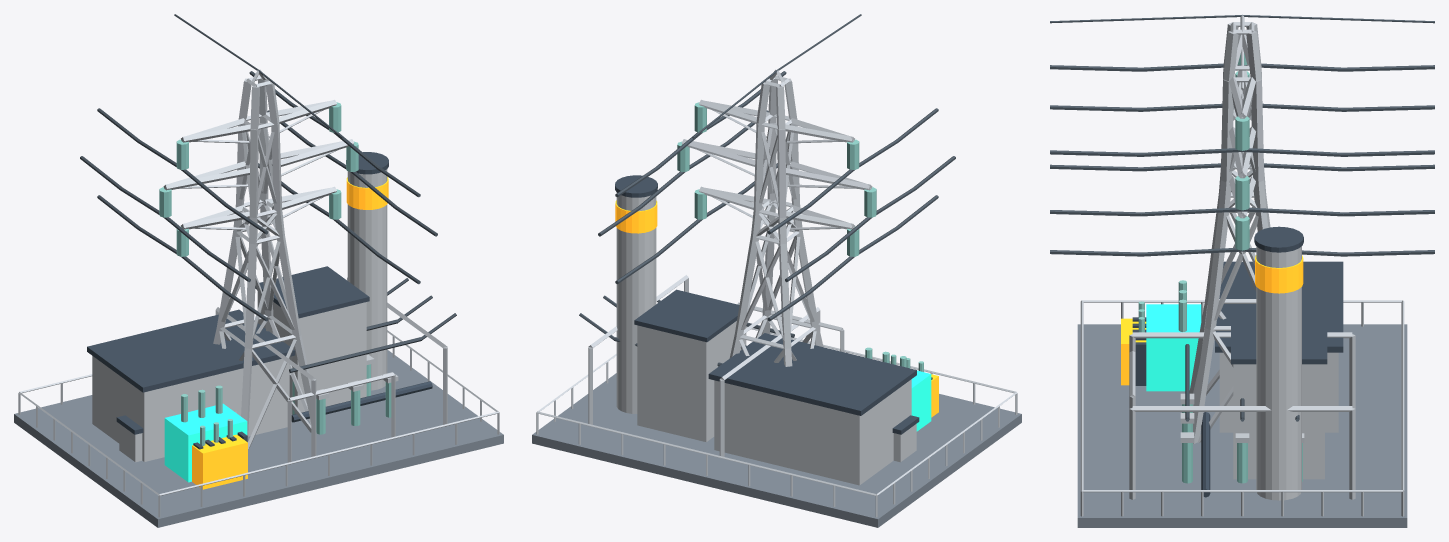
The model's file is eco-infrastructure.glb.
The picture shows the model from 3 angles, left to right: view 1: azimuth 30°, elevation 25°; view 2: azimuth 150°, elevation 25°; view 3: azimuth 270°, elevation 25°; orthographic projection. The views are drawn at different scales.
Parts seen in each view (by area): view 1: PowerStation_Concrete, PowerStation_Building, Tower_Steel, PowerStation_Roof, Tower_Conductor, Substation_Steel, PowerStation_AccentAmber, Substation_AccentTeal, Tower_Insulator, Substation_Insulator, Substation_Conductor, PowerStation_Steel (+1 smaller); view 2: PowerStation_Building, PowerStation_Concrete, Tower_Steel, PowerStation_Roof, Tower_Conductor, Substation_Steel, Tower_Insulator, PowerStation_AccentAmber, Substation_AccentTeal, Substation_Building; view 3: PowerStation_Concrete, PowerStation_Building, Tower_Steel, Tower_Conductor, PowerStation_Roof, Substation_Steel, Substation_AccentTeal, PowerStation_AccentAmber, Tower_Insulator, Substation_Insulator, Substation_Roof, Substation_Conductor.
Part boxes in pixels (<box>): PowerStation_Concrete: <box>14,349,503,527</box>; PowerStation_Building: <box>92,169,387,461</box>; Tower_Steel: <box>163,69,354,448</box>; PowerStation_Roof: <box>87,152,432,422</box>; Tower_Conductor: <box>80,14,437,321</box>; Substation_Steel: <box>18,277,499,517</box>; PowerStation_AccentAmber: <box>192,177,388,489</box>; Substation_AccentTeal: <box>164,403,247,482</box>; Tower_Insulator: <box>159,102,358,256</box>; Substation_Insulator: <box>181,364,391,434</box>; Substation_Conductor: <box>265,278,456,372</box>; PowerStation_Steel: <box>287,372,395,464</box>; PowerStation_Building: <box>616,195,911,485</box>; PowerStation_Concrete: <box>532,373,1021,527</box>; Tower_Steel: <box>681,69,872,366</box>; PowerStation_Roof: <box>615,175,916,415</box>; Tower_Conductor: <box>598,14,955,321</box>; Substation_Steel: <box>536,275,1017,517</box>; Tower_Insulator: <box>677,102,876,256</box>; PowerStation_AccentAmber: <box>615,200,938,417</box>; Substation_AccentTeal: <box>911,370,931,431</box>; Substation_Building: <box>893,424,916,462</box>; PowerStation_Concrete: <box>1077,324,1407,527</box>; PowerStation_Building: <box>1219,246,1338,500</box>; Tower_Steel: <box>1189,14,1270,443</box>; Tower_Conductor: <box>1050,15,1434,256</box>; PowerStation_Roof: <box>1201,226,1343,497</box>; Substation_Steel: <box>1080,300,1404,516</box>; Substation_AccentTeal: <box>1146,304,1201,391</box>; PowerStation_AccentAmber: <box>1121,255,1303,385</box>; Tower_Insulator: <box>1235,53,1249,250</box>; Substation_Insulator: <box>1178,280,1302,483</box>; Substation_Roof: <box>1132,317,1146,385</box>; Substation_Conductor: <box>1185,344,1299,421</box>.
Size of the model in its own units: 1 by 1.01 by 0.8403.
